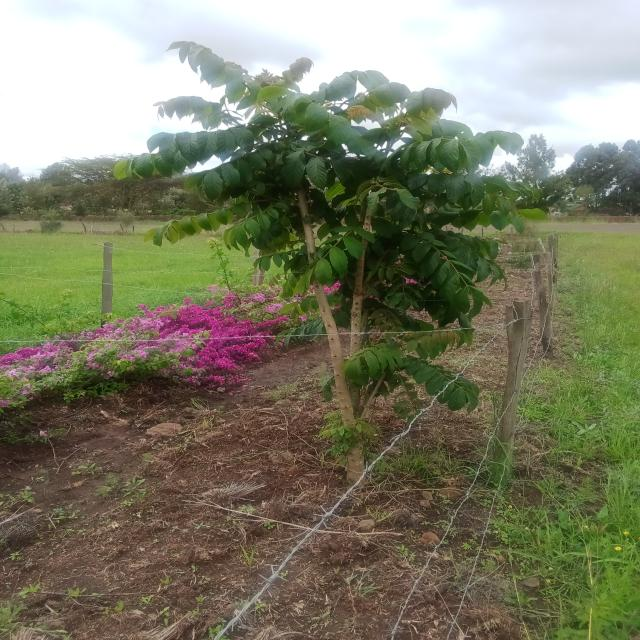Polyscias Kikuyensis: (130, 29, 546, 488)
